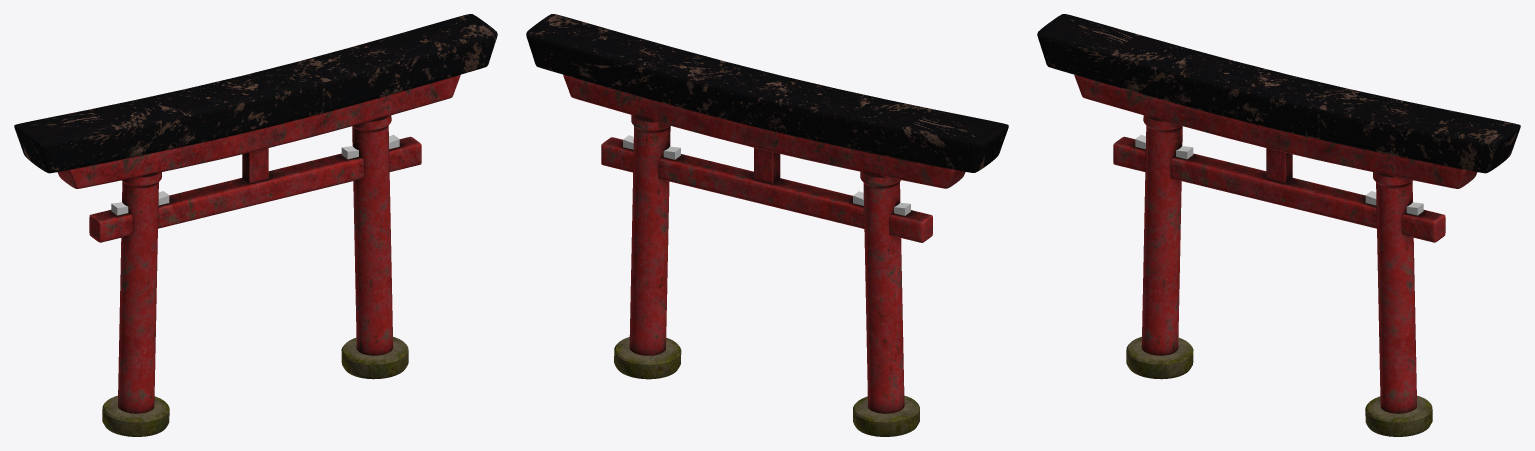
Rendered from Torii_Gate_002.fbx.
3 renders of one model, left to right at view 1: azimuth 30°, elevation 25°; view 2: azimuth 150°, elevation 25°; view 3: azimuth 330°, elevation 25°, orthographic.
Visible parts, largest first — view 1: Large.004, Pillars.008, Medium.004, Pillars.004, Small.004, Base.004, Design001.005, Design002.004; view 2: Large.004, Pillars.008, Pillars.004, Medium.004, Small.004, Base.004, Design001.005, Design002.004; view 3: Large.004, Pillars.004, Medium.004, Pillars.008, Small.004, Base.004, Design001.005, Design002.004.
Part boxes in pixels (box(x1,y1,x2,y2)): Large.004: box(14, 14, 497, 173); Pillars.008: box(118, 172, 161, 413); Medium.004: box(57, 74, 460, 188); Pillars.004: box(352, 115, 393, 355); Small.004: box(89, 136, 421, 242); Base.004: box(102, 337, 408, 436); Design001.005: box(242, 148, 268, 183); Design002.004: box(111, 134, 399, 215); Large.004: box(526, 14, 1008, 172); Pillars.008: box(860, 171, 904, 413); Pillars.004: box(629, 115, 670, 355); Medium.004: box(563, 74, 965, 188); Small.004: box(601, 137, 932, 242); Base.004: box(614, 337, 919, 436); Design001.005: box(754, 147, 780, 184); Design002.004: box(623, 135, 910, 215); Large.004: box(1037, 14, 1520, 173); Pillars.004: box(1373, 172, 1416, 413); Medium.004: box(1074, 74, 1477, 188); Pillars.008: box(1141, 115, 1182, 355); Small.004: box(1113, 136, 1445, 242); Base.004: box(1126, 337, 1432, 436); Design001.005: box(1266, 148, 1292, 183); Design002.004: box(1135, 134, 1423, 215).
Bounding box in the file's own units: 1534 × 1013 × 194.
